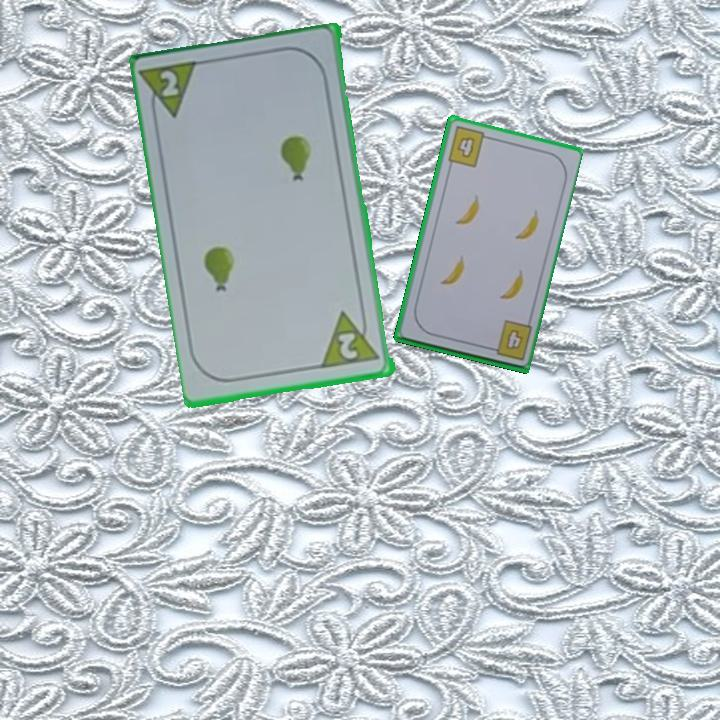2p: (139, 57, 204, 126), (335, 329, 362, 363)
4b: (444, 123, 493, 170), (484, 317, 534, 363)
